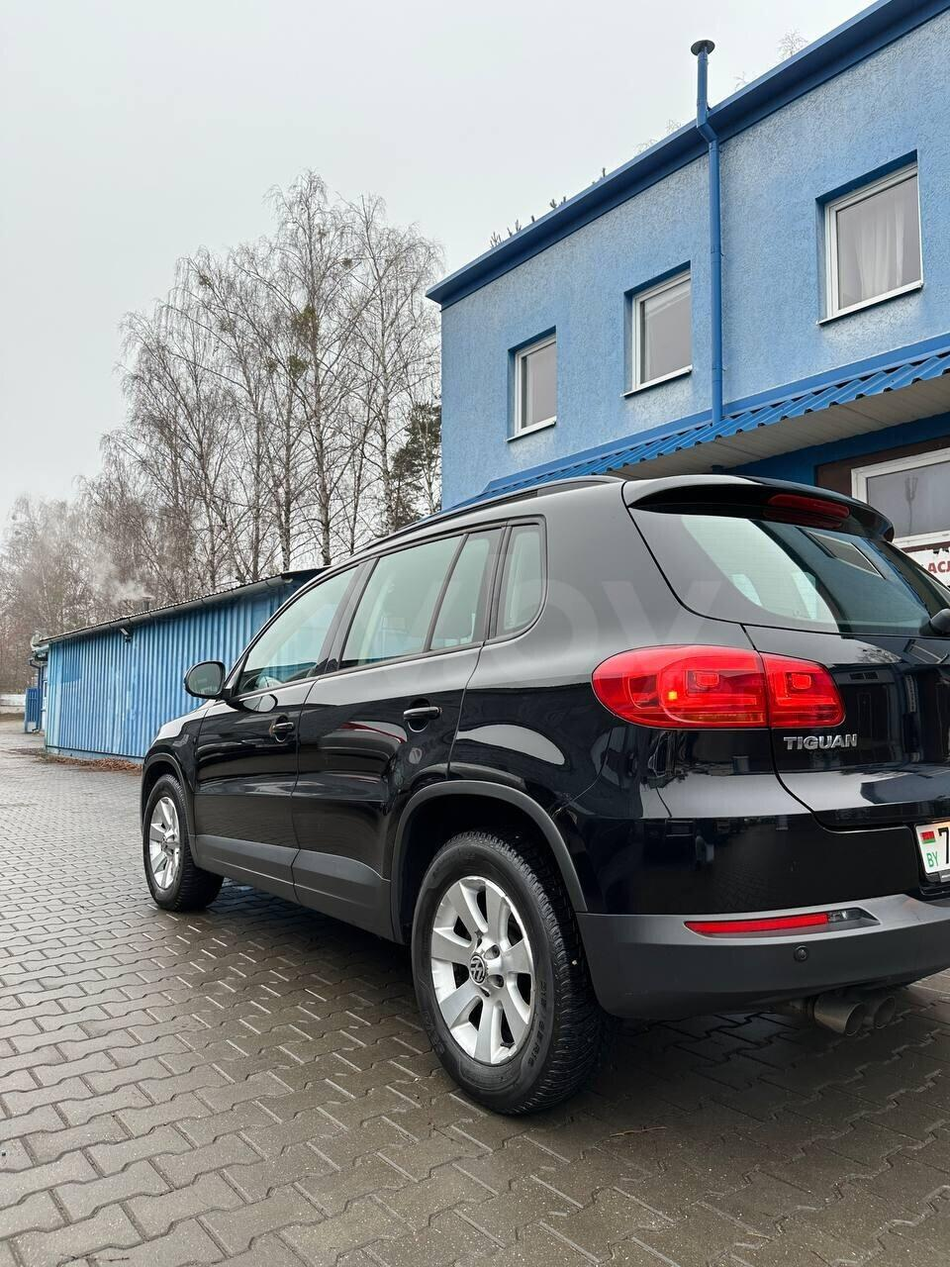Tiguan_2011-2018: (132, 473, 950, 1112)
